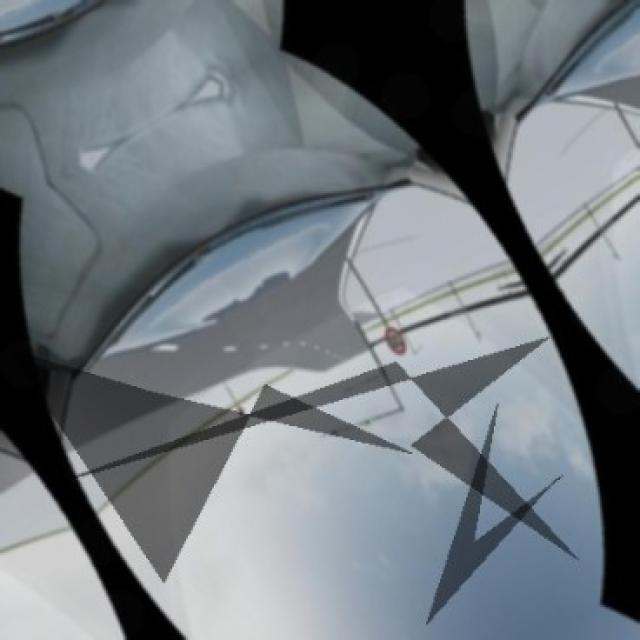forb_speed_over_120: (381, 325, 410, 360)
